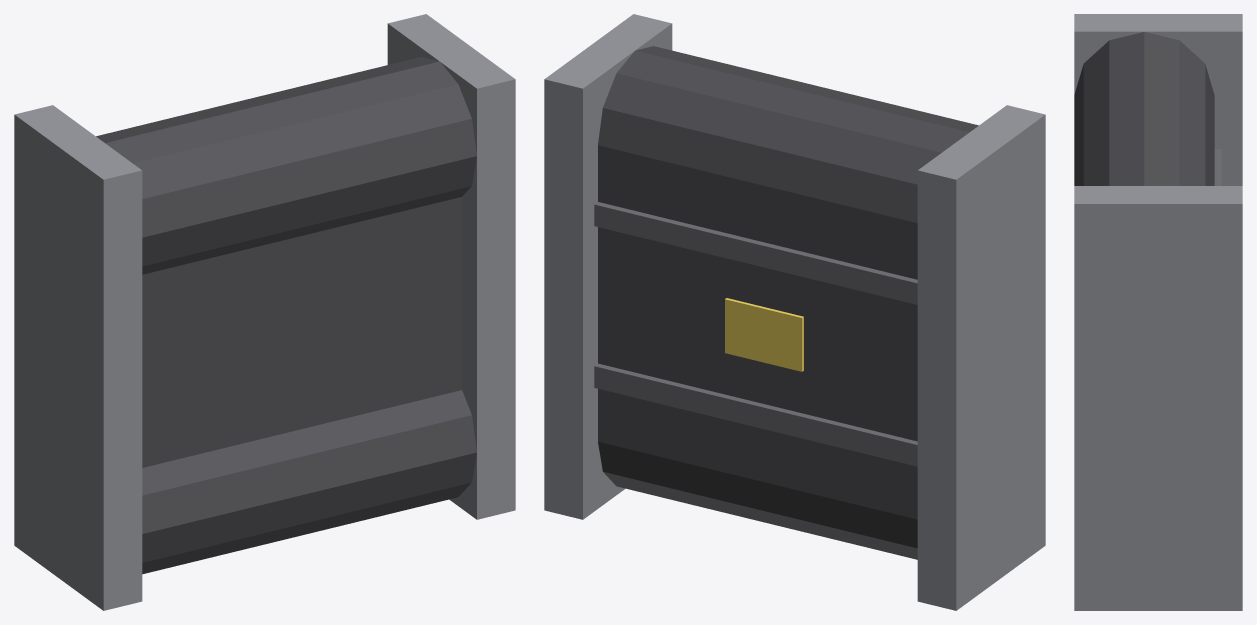
The model's file is belt_held.gltf.
3 views of the same model, side by side, from view 1: azimuth 30°, elevation 25°; view 2: azimuth 150°, elevation 25°; view 3: azimuth 270°, elevation 25° (orthographic). The views are drawn at different scales.
Parts seen in each view (by area): view 1: conveyor_belt_held; view 2: conveyor_belt_held; view 3: conveyor_belt_held.
Part boxes in pixels (bbox=[...]): conveyor_belt_held: bbox=[14, 14, 515, 610]; conveyor_belt_held: bbox=[544, 14, 1045, 610]; conveyor_belt_held: bbox=[1074, 14, 1242, 610].
Size of the model in its own units: 0.16 by 0.16 by 0.06.
